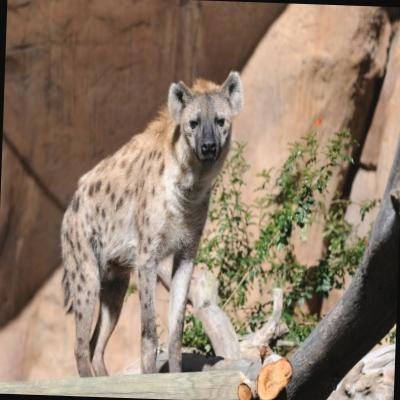hyenas: (32, 47, 273, 384)
